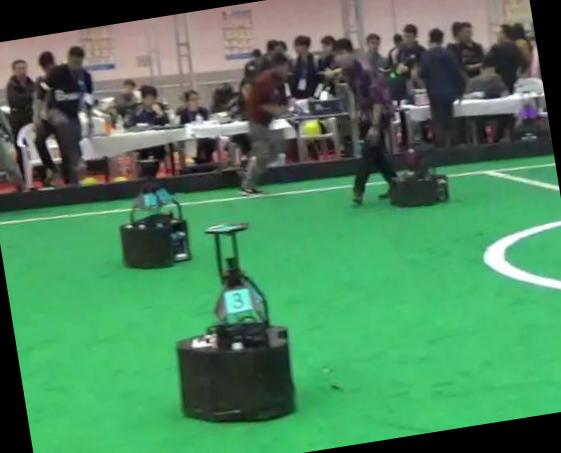ball: (301, 119, 322, 136), (78, 176, 99, 186)
person: (333, 38, 397, 204), (241, 54, 288, 193)
robot: (177, 224, 295, 422), (119, 181, 191, 268), (392, 149, 450, 207)
